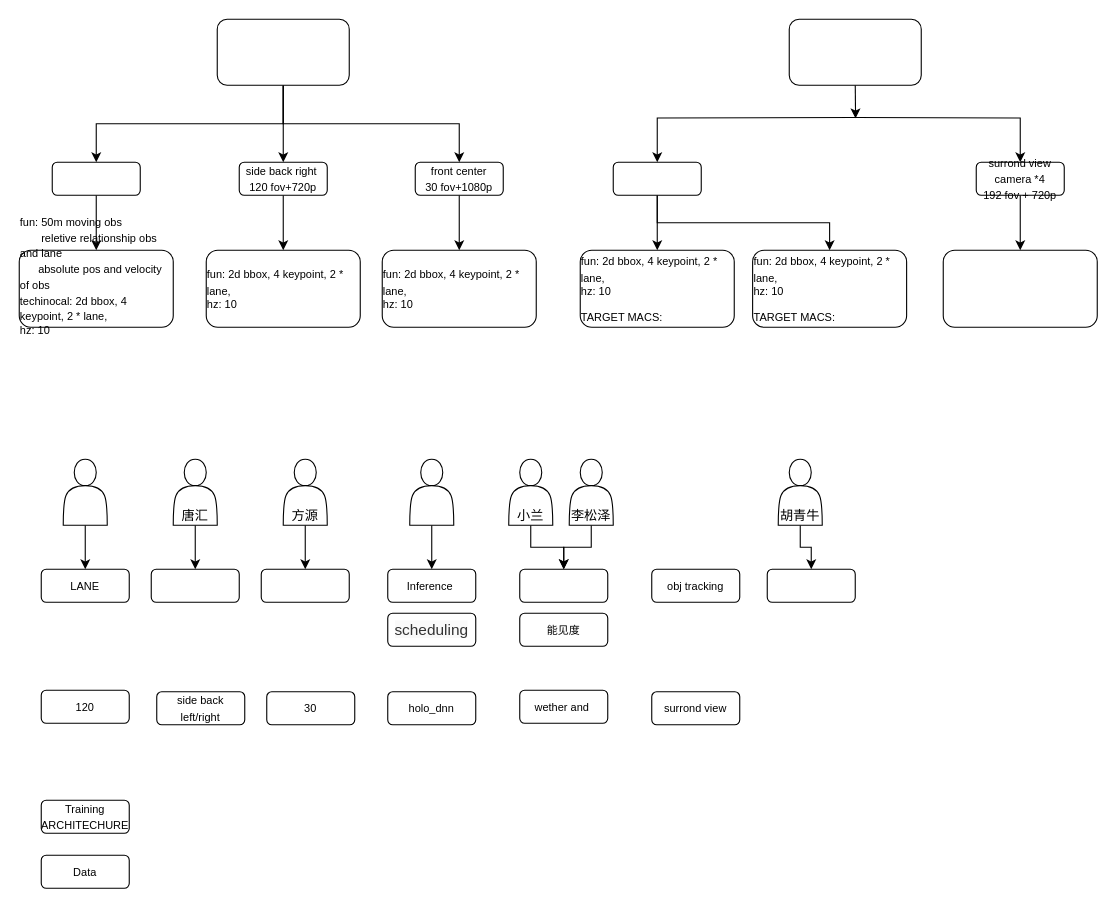
Image size: 1117x908. Some labels were removed from this diagram. The shapes that lost their labels are listed below. From the top down, each one's centre as x and y in pixels, then its label:
point 282,51: TDA4-A
point 854,51: TDA4-B
point 95,178: side back left 120 fov, 720p
point 656,178: front 120 120 fov+1080p
point 1019,288: fun: 2d bbox, 2 keypoint hz: 5
point 84,491: 刘禹锡
point 431,491: 文天
point 194,585: OBSTACLE
point 304,585: KEYPOINT
point 563,585: 天气检测
point 810,585: ACCLERATION
